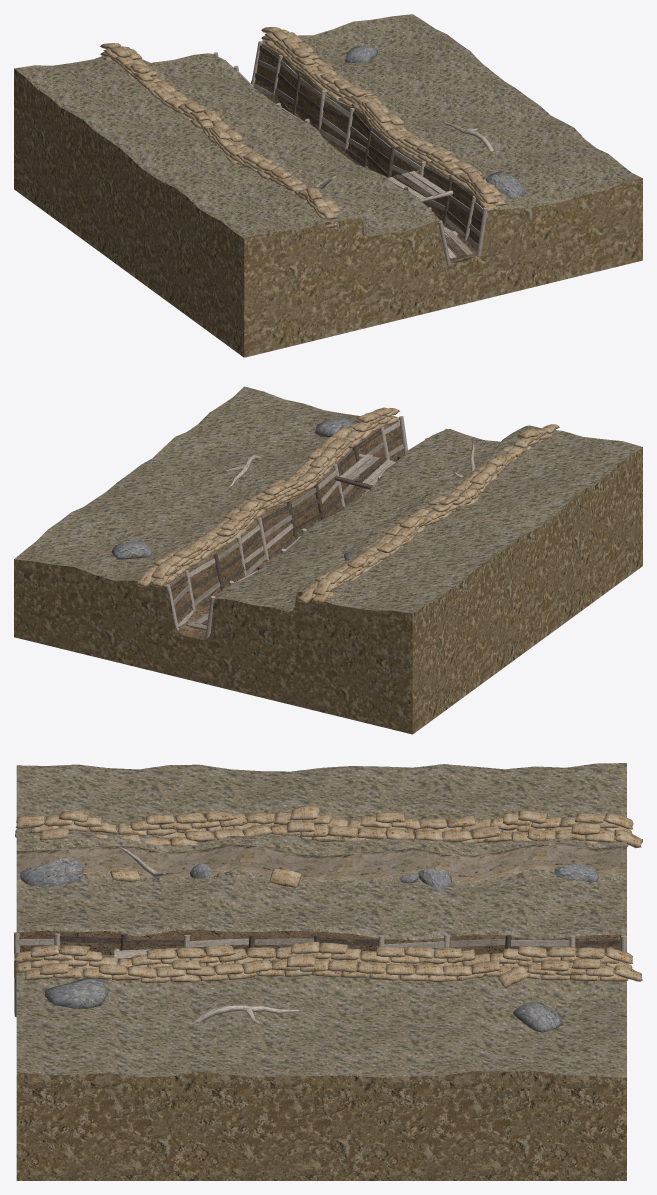
3 views of the same model, one above another, from view 1: azimuth 30°, elevation 25°; view 2: azimuth 150°, elevation 25°; view 3: azimuth 270°, elevation 25° (orthographic). The views are drawn at different scales.
Parts seen in each view (by area): view 1: Object001_boki_0, Object002_ziemia_0, Box219, Cylinder003, Object003_ziemia1_0, Box225; view 2: Object001_boki_0, Object002_ziemia_0, Box219, Cylinder003, Object003_ziemia1_0, Box225; view 3: Object002_ziemia_0, Object001_boki_0, Box219, Box001, Box225, Object003_ziemia1_0, Cylinder003, Box224.
Part boxes in pixels (bbox=[...]): Object001_boki_0: bbox=[14, 69, 642, 357]; Object002_ziemia_0: bbox=[14, 14, 642, 238]; Box219: bbox=[100, 27, 506, 227]; Cylinder003: bbox=[213, 41, 487, 265]; Object003_ziemia1_0: bbox=[251, 44, 488, 262]; Box225: bbox=[345, 45, 525, 233]; Object001_boki_0: bbox=[14, 447, 642, 734]; Object002_ziemia_0: bbox=[14, 386, 642, 613]; Box219: bbox=[136, 407, 559, 603]; Cylinder003: bbox=[166, 416, 447, 638]; Object003_ziemia1_0: bbox=[169, 420, 403, 639]; Box225: bbox=[111, 418, 355, 560]; Object002_ziemia_0: bbox=[16, 763, 626, 1077]; Object001_boki_0: bbox=[16, 1071, 626, 1180]; Box219: bbox=[15, 805, 642, 988]; Box001: bbox=[16, 842, 626, 882]; Box225: bbox=[20, 858, 598, 1032]; Object003_ziemia1_0: bbox=[17, 929, 626, 961]; Cylinder003: bbox=[14, 932, 626, 1016]; Box224: bbox=[118, 846, 306, 1024].
Bounding box in the file's own units: 2000 × 618 × 2062.
9 materials, 9 textured.
